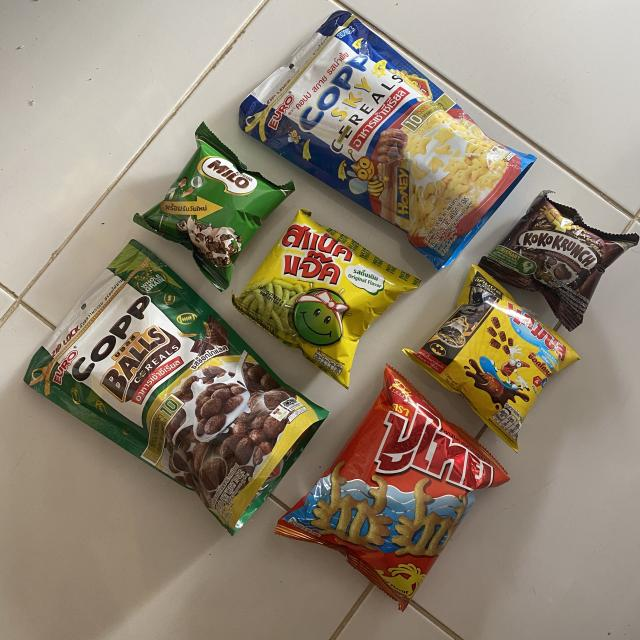plastik: (25, 240, 328, 534), (239, 11, 535, 269), (275, 365, 509, 610), (232, 210, 420, 386), (406, 265, 578, 450), (134, 122, 295, 291), (480, 191, 640, 330)
